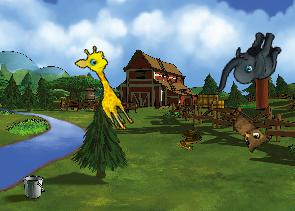elephant: (214, 23, 284, 103)
giraffe: (71, 42, 144, 134)
owl: (219, 108, 273, 157)
